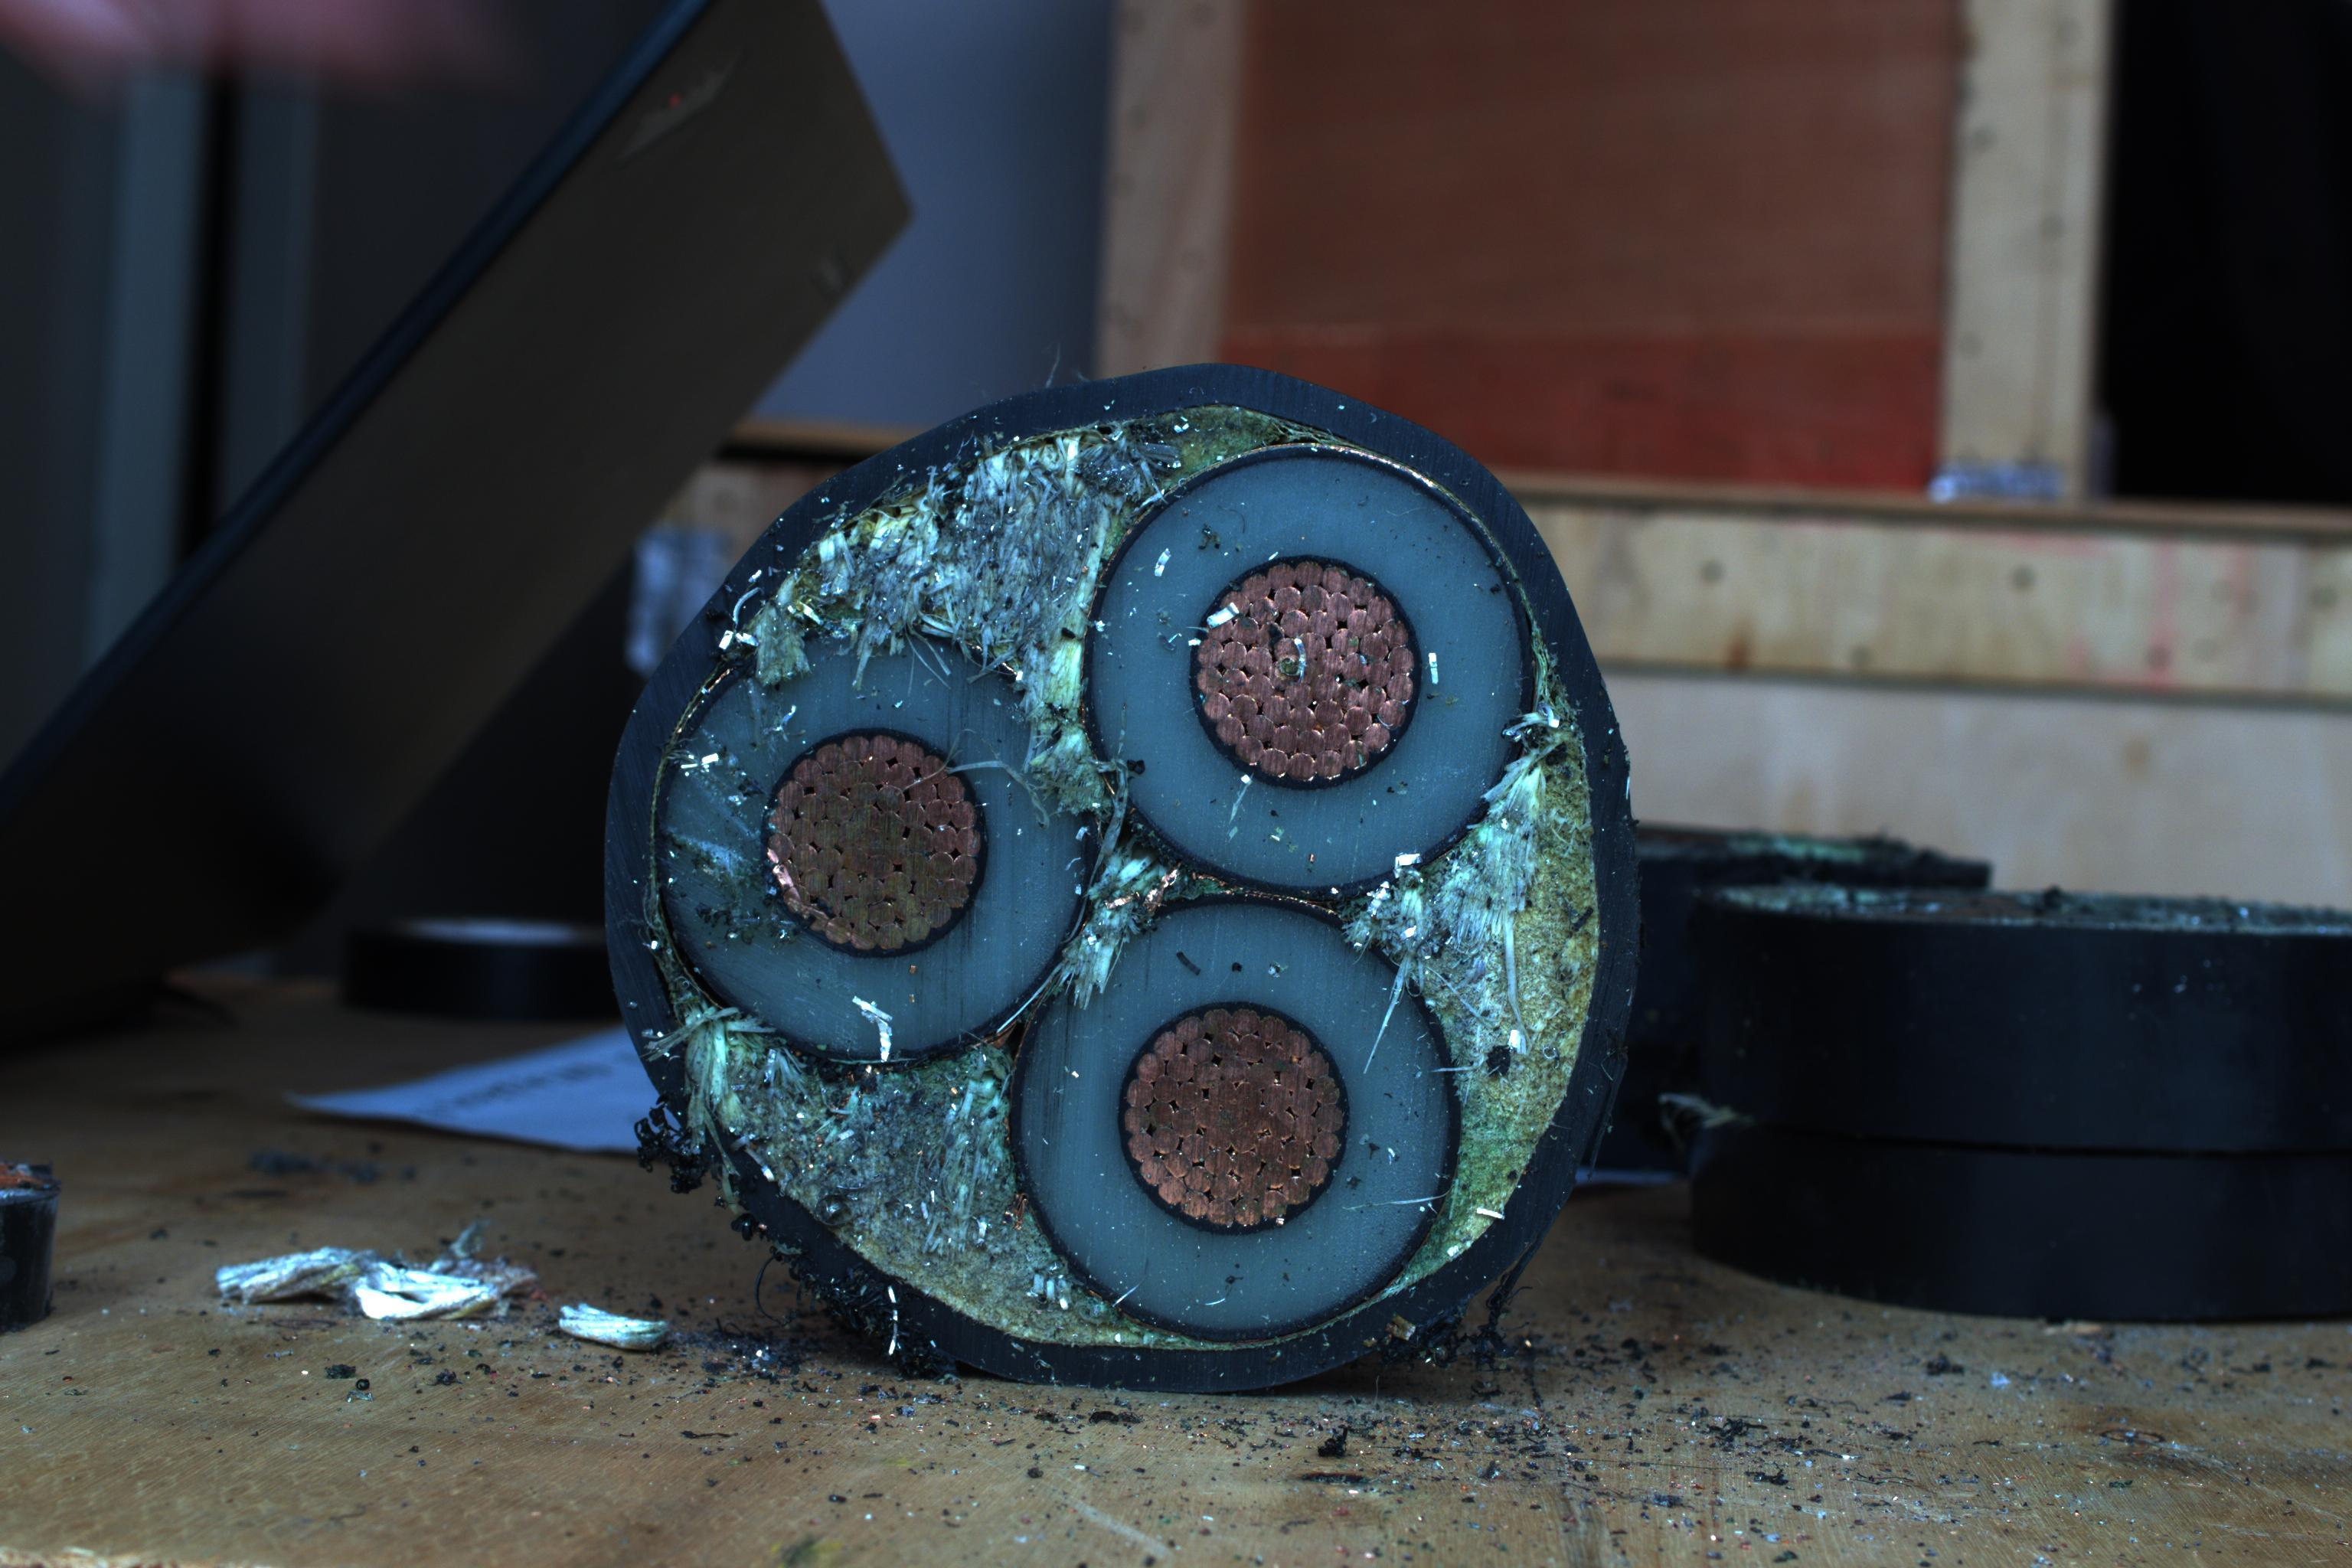ZA_YJV_26_35kV_3x400: (635, 394, 1598, 1386)
